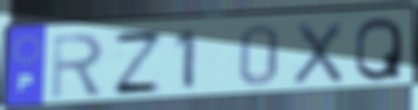0: (236, 22, 281, 90)
1: (172, 28, 199, 91)
Q: (352, 15, 405, 84)
R: (48, 32, 107, 102)
X: (290, 18, 346, 88)
Z: (110, 30, 167, 96)
